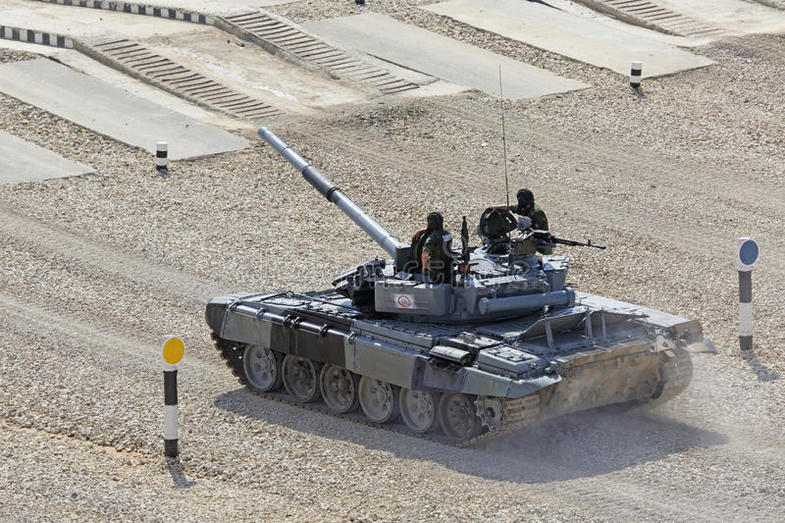t72: (214, 133, 704, 441)
